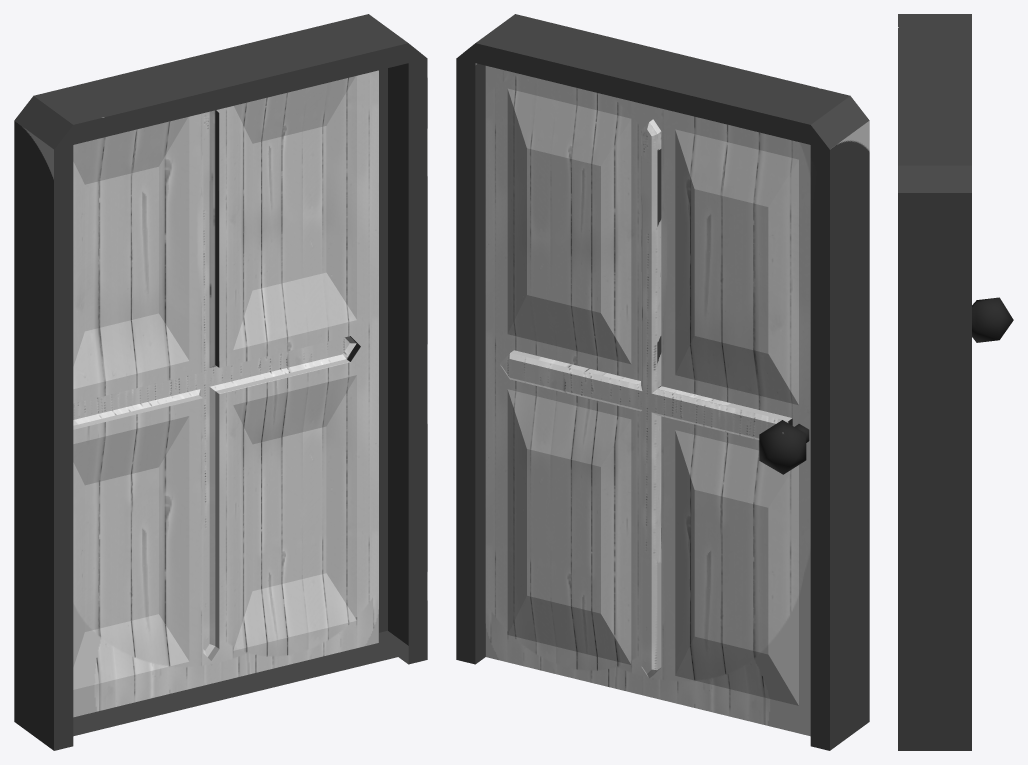
File: door.fbx
3 views of the same model, side by side, from view 1: azimuth 30°, elevation 25°; view 2: azimuth 150°, elevation 25°; view 3: azimuth 270°, elevation 25° (orthographic). The views are drawn at different scales.
Visible parts, largest first — view 1: door; view 2: door; view 3: door.
Part boxes in pixels (<box>): door: <box>14,14,427,750</box>; door: <box>456,14,869,750</box>; door: <box>898,14,1013,750</box>.
Bounding box in the file's own units: 195 × 310 × 56.37.
